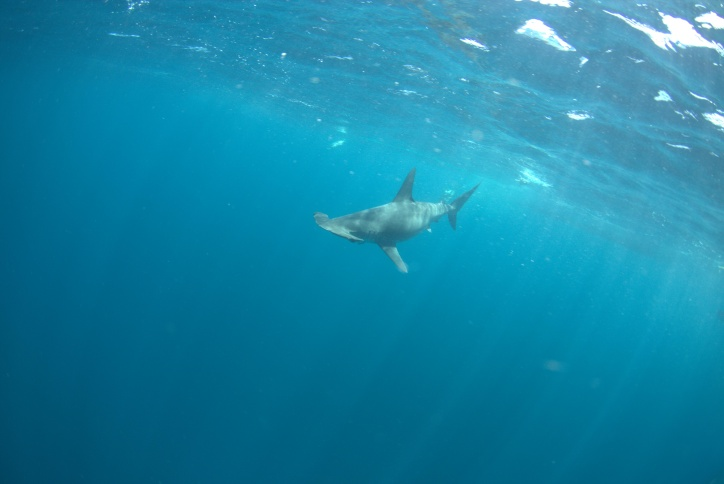Hammer: (297, 151, 499, 301)
